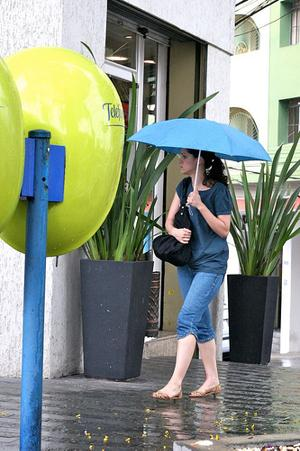person: (152, 148, 233, 402)
